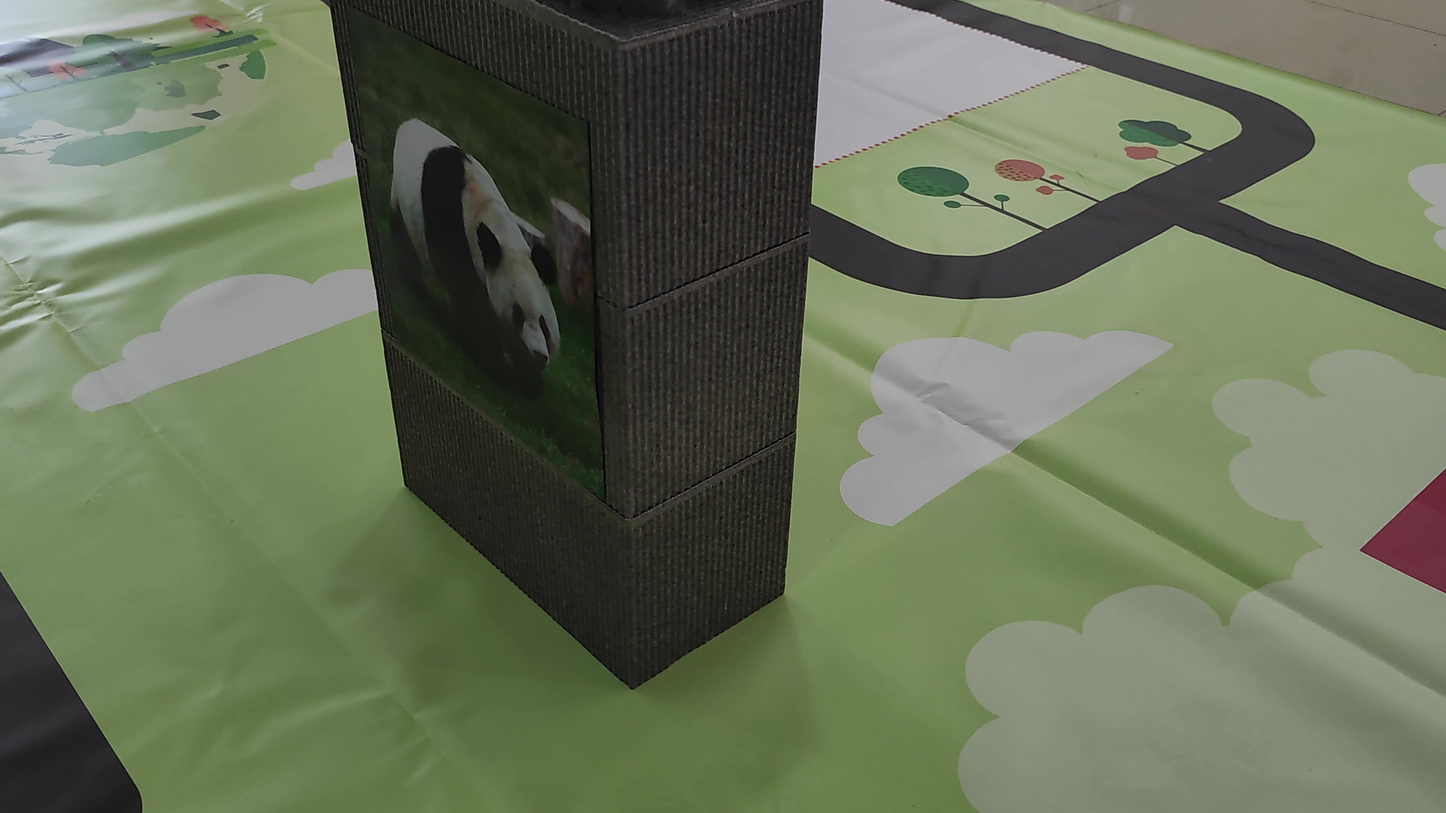panda: (380, 110, 575, 415)
